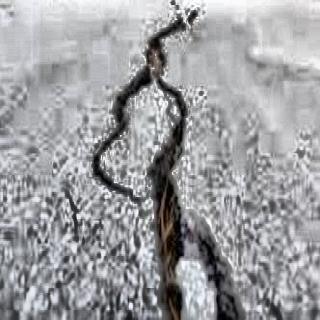crack: (87, 21, 236, 320)
